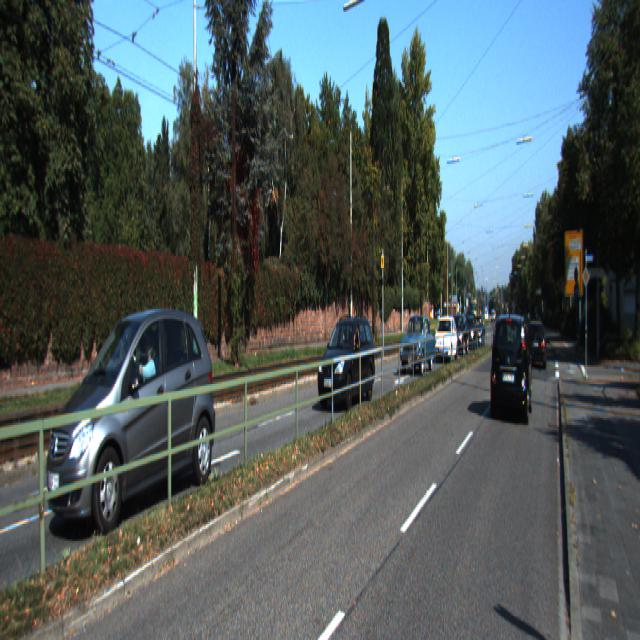Car: (47, 299, 219, 546), (317, 312, 378, 413), (489, 308, 533, 424), (401, 313, 436, 375), (434, 314, 458, 364), (524, 319, 544, 374), (449, 311, 469, 356), (462, 310, 478, 350)
